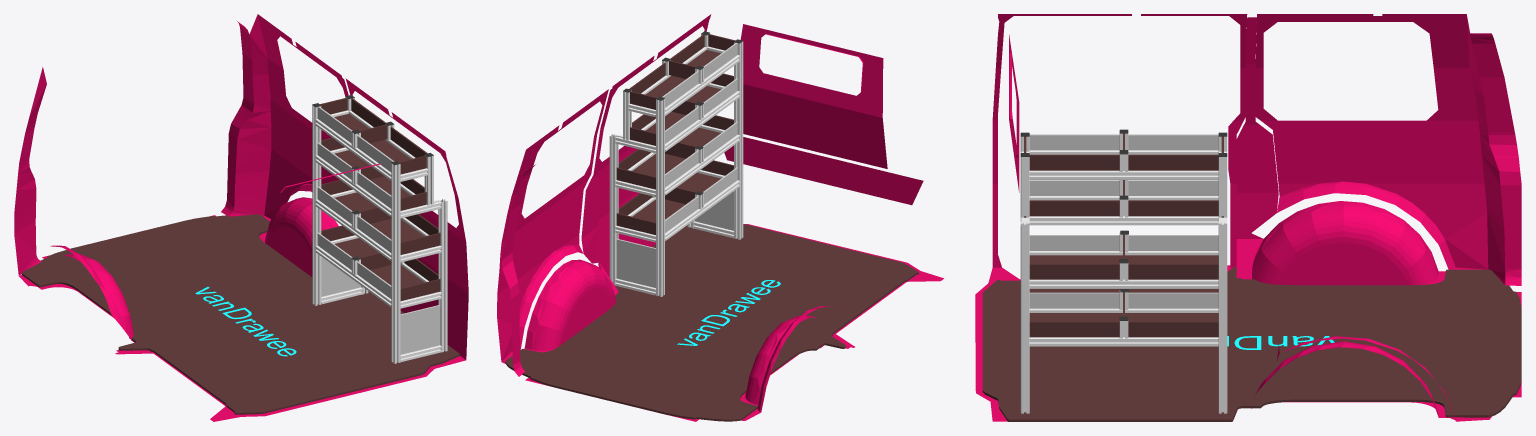
The model's file is vd_export_regalova_vestavba_vw_transporter_t6_l1_001ec27e.glb.
3 views of the same model, side by side, from view 1: azimuth 30°, elevation 25°; view 2: azimuth 150°, elevation 25°; view 3: azimuth 270°, elevation 25° (orthographic). The views are drawn at different scales.
Visible parts, largest first — view 1: SomeName041_Mesh_14034, SomeName_Mesh_0057_(1), 40x40x1250_noha (×2), SL40x40x1267_Zx2_2 (×4), CUB10_292x260 (×2), PR10_1266x291 (×2), CUB10_635x89_2 (×4), CUB10_635x89 (×4), PR10_1266x220 (×2), 40x40x945_noha, PR10_291x89_2 (×2), logo (+2 smaller); view 2: SomeName041_Mesh_14034, SomeName_Mesh_0057_(1), 40x40x1250_noha (×2), SL40x40x1267_Zx2_2 (×4), CUB10_292x260 (×2), PR10_1266x291 (×2), CUB10_635x89 (×4), CUB10_635x89_2 (×4), 40x40x945_noha, PR10_1266x220 (×2), PR10_291x89_3 (×2), logo (+2 smaller); view 3: SomeName_Mesh_0057_(1), SomeName041_Mesh_14034, SL40x40x1267_Zx2 (×4), PR10_635x89_2 (×4), PR10_635x89 (×4), CUB10_635x89 (×4), CUB10_635x89_2 (×4), 40x40x945_noha (×2), SL40x40x1267_Zx2_2 (×4), PR10_1266x291 (×2), 40x40x305_Zx1_noha (×2), logo.
Part boxes in pixels (x1,y1,x2,y2): SomeName041_Mesh_14034: (22,214,459,414); SomeName_Mesh_0057_(1): (14,14,468,421); 40x40x1250_noha (×2): (312,105,400,363); SL40x40x1267_Zx2_2 (×4): (315,119,391,306); CUB10_292x260 (×2): (321,257,440,354); PR10_1266x291 (×2): (334,192,424,288); CUB10_635x89_2 (×4): (357,134,394,298); CUB10_635x89 (×4): (317,106,352,269); PR10_1266x220 (×2): (334,113,410,197); 40x40x945_noha: (438,199,447,352); PR10_291x89_2 (×2): (400,232,440,300); logo: (195,287,296,356); SomeName041_Mesh_14034: (505,224,918,421); SomeName_Mesh_0057_(1): (497,14,943,421); 40x40x1250_noha (×2): (656,41,743,296); SL40x40x1267_Zx2_2 (×4): (665,55,739,240); CUB10_292x260 (×2): (616,191,733,287); PR10_1266x291 (×2): (632,127,720,222); CUB10_635x89 (×4): (662,70,698,232); CUB10_635x89_2 (×4): (703,42,737,204); 40x40x945_noha: (609,134,618,285); PR10_1266x220 (×2): (645,50,720,133); PR10_291x89_3 (×2): (616,167,655,234); logo: (677,280,780,345); SomeName_Mesh_0057_(1): (975,14,1521,421); SomeName041_Mesh_14034: (982,267,1521,421); SL40x40x1267_Zx2 (×4): (1029,170,1218,346); PR10_635x89_2 (×4): (1128,154,1218,337); PR10_635x89 (×4): (1029,154,1119,337); CUB10_635x89 (×4): (1128,134,1218,308); CUB10_635x89_2 (×4): (1029,134,1119,308); 40x40x945_noha (×2): (1020,223,1227,413); SL40x40x1267_Zx2_2 (×4): (1029,150,1218,312); PR10_1266x291 (×2): (1029,255,1218,321); 40x40x305_Zx1_noha (×2): (1020,157,1227,217); logo: (1227,336,1334,349).
Bounding box in the file's own units: 1703 × 1406 × 2494.
